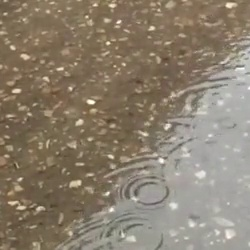drop: (103, 212, 165, 250), (118, 174, 172, 208), (200, 9, 224, 29)
